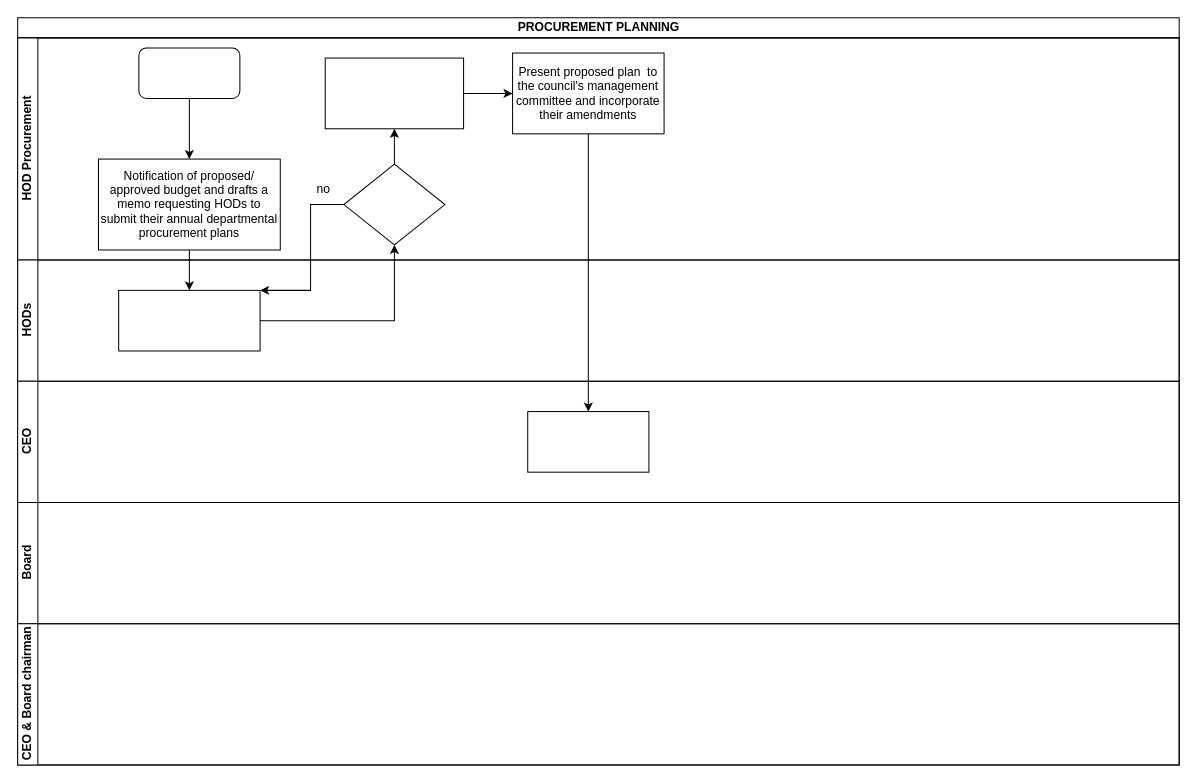
The diagram is 1197 pixels wide and 783 high, and some of its shapes have lost their labels. The shapes that lost their labels are listed below. From the top down, each one's centre as x and y in pixels, then its label:
the point at 189,72: Start
the point at 394,93: Incorporate departmental plans into the proposed Council Procurement Plan
the point at 394,204: In line with budget?
the point at 189,320: HODs submits their departmental plans to HOD procurement
